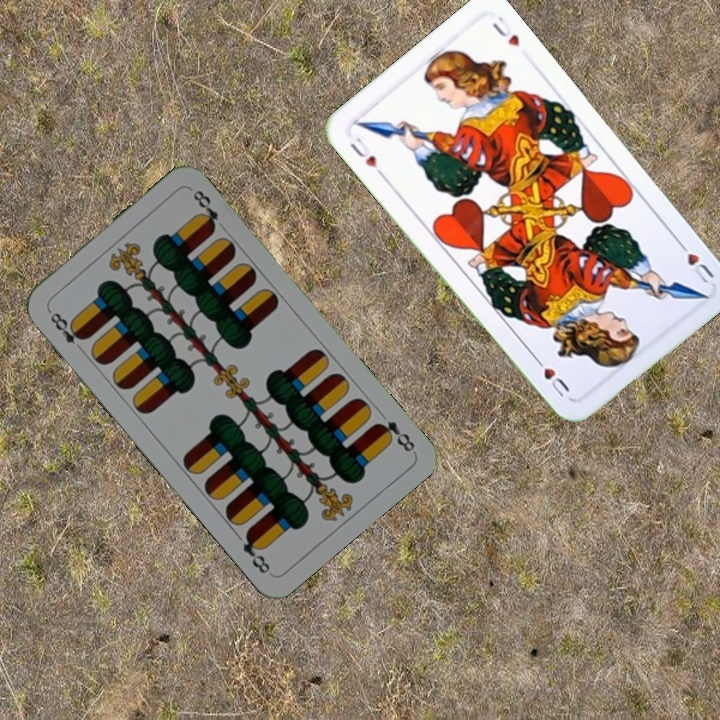E8: (44, 306, 89, 355), (370, 416, 418, 455)
HU: (673, 236, 717, 288), (346, 133, 387, 180)
